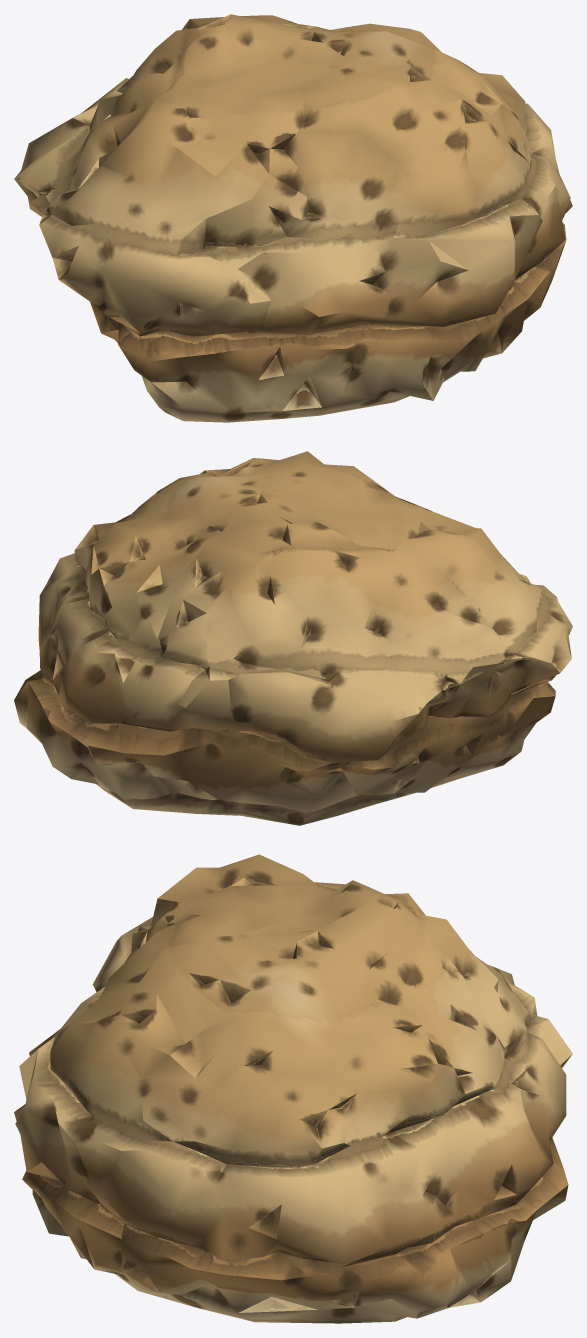
The model's file is piedra_arenisca.fbx.
The picture shows the model from 3 angles, top to bottom: view 1: azimuth 30°, elevation 25°; view 2: azimuth 150°, elevation 25°; view 3: azimuth 270°, elevation 25°; orthographic projection. The views are drawn at different scales.
Parts seen in each view (by area): view 1: piedra_arenisca; view 2: piedra_arenisca; view 3: piedra_arenisca.
Part boxes in pixels (x1,y1,x2,y2): piedra_arenisca: (14,14,572,422); piedra_arenisca: (14,451,572,825); piedra_arenisca: (14,854,572,1323).
Size of the model in its own units: 2.58 by 1.38 by 2.22.
Materials: 1 (1 with a texture image).
